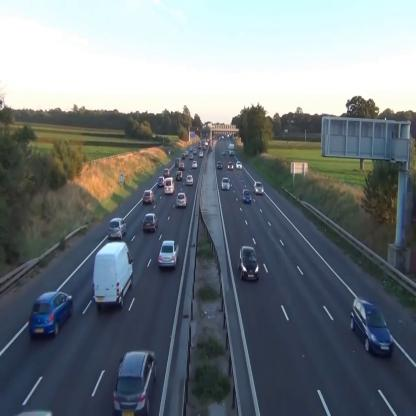car: (350, 296, 394, 359), (29, 292, 73, 337), (238, 245, 259, 280), (158, 241, 178, 269), (108, 218, 127, 240), (143, 213, 159, 232), (142, 189, 155, 204), (176, 192, 187, 208), (253, 181, 264, 196), (242, 189, 252, 203), (221, 177, 230, 190), (158, 176, 165, 187), (176, 170, 183, 181), (186, 175, 193, 184), (236, 161, 242, 169), (228, 162, 233, 170)
lorry: (93, 240, 134, 309), (164, 177, 174, 195)
